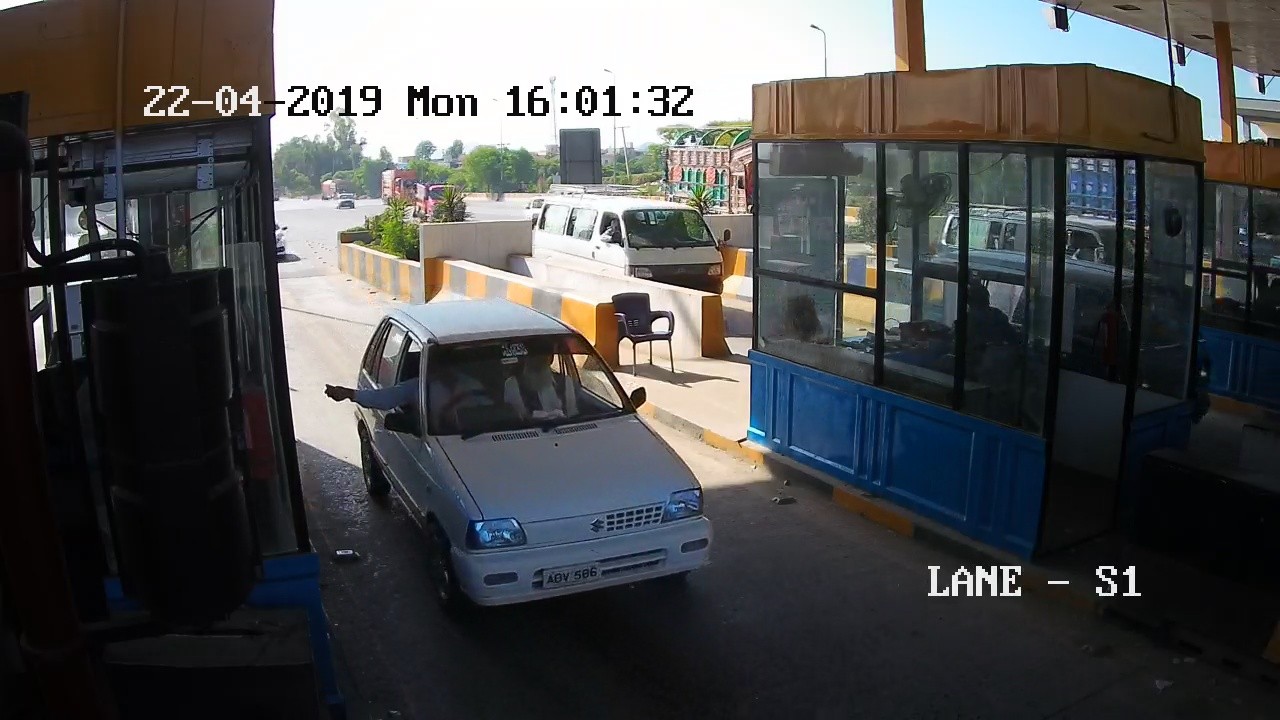car: (336, 289, 743, 641)
